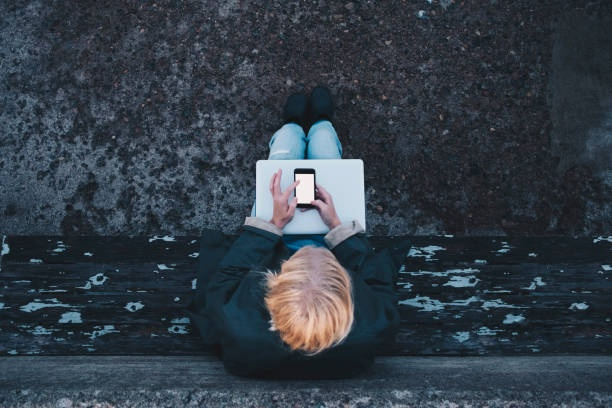person: (207, 88, 397, 377)
phone: (292, 166, 317, 210)
